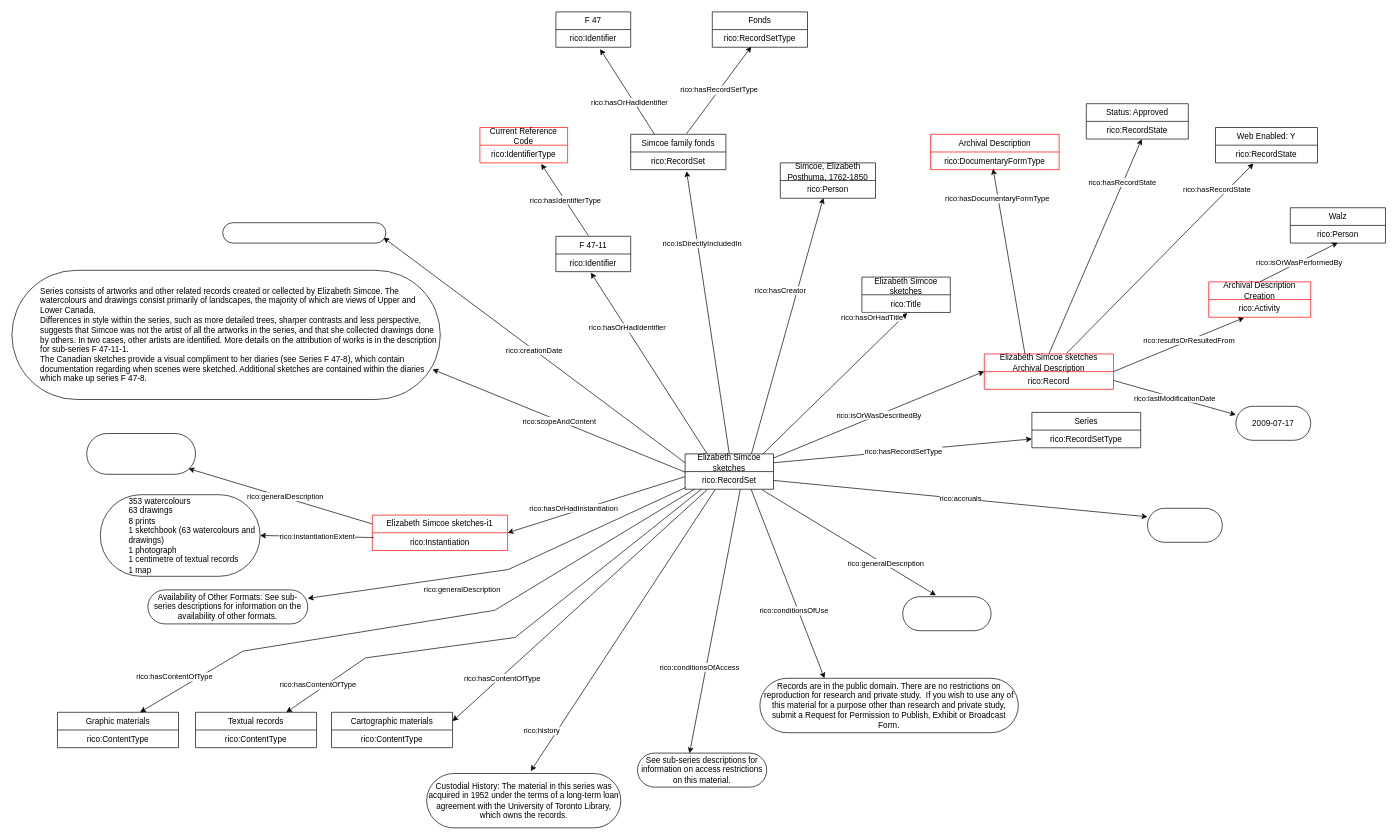
The diagram is 1397 pixels wide and 840 high, and some of its shapes have lost their labels. Here are the shapes that lost their labels. From the top down, the centre of each, then its label:
the point at 304,232: ca. 1790-[184-?] (Predominant 1791-1796)
the point at 141,453: How to Order: Please see sub-series descriptions for ordering information.
the point at 1184,525: No further accruals are expected.
the point at 946,613: Finding Aid Note: Please see sub-series descriptions.
